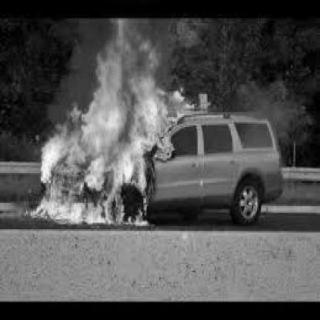Fire: (34, 13, 180, 231)
